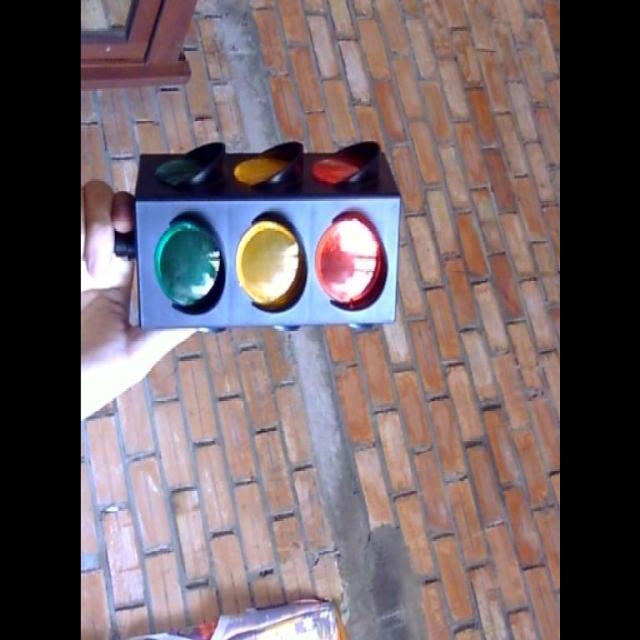red light: (307, 195, 392, 326)
